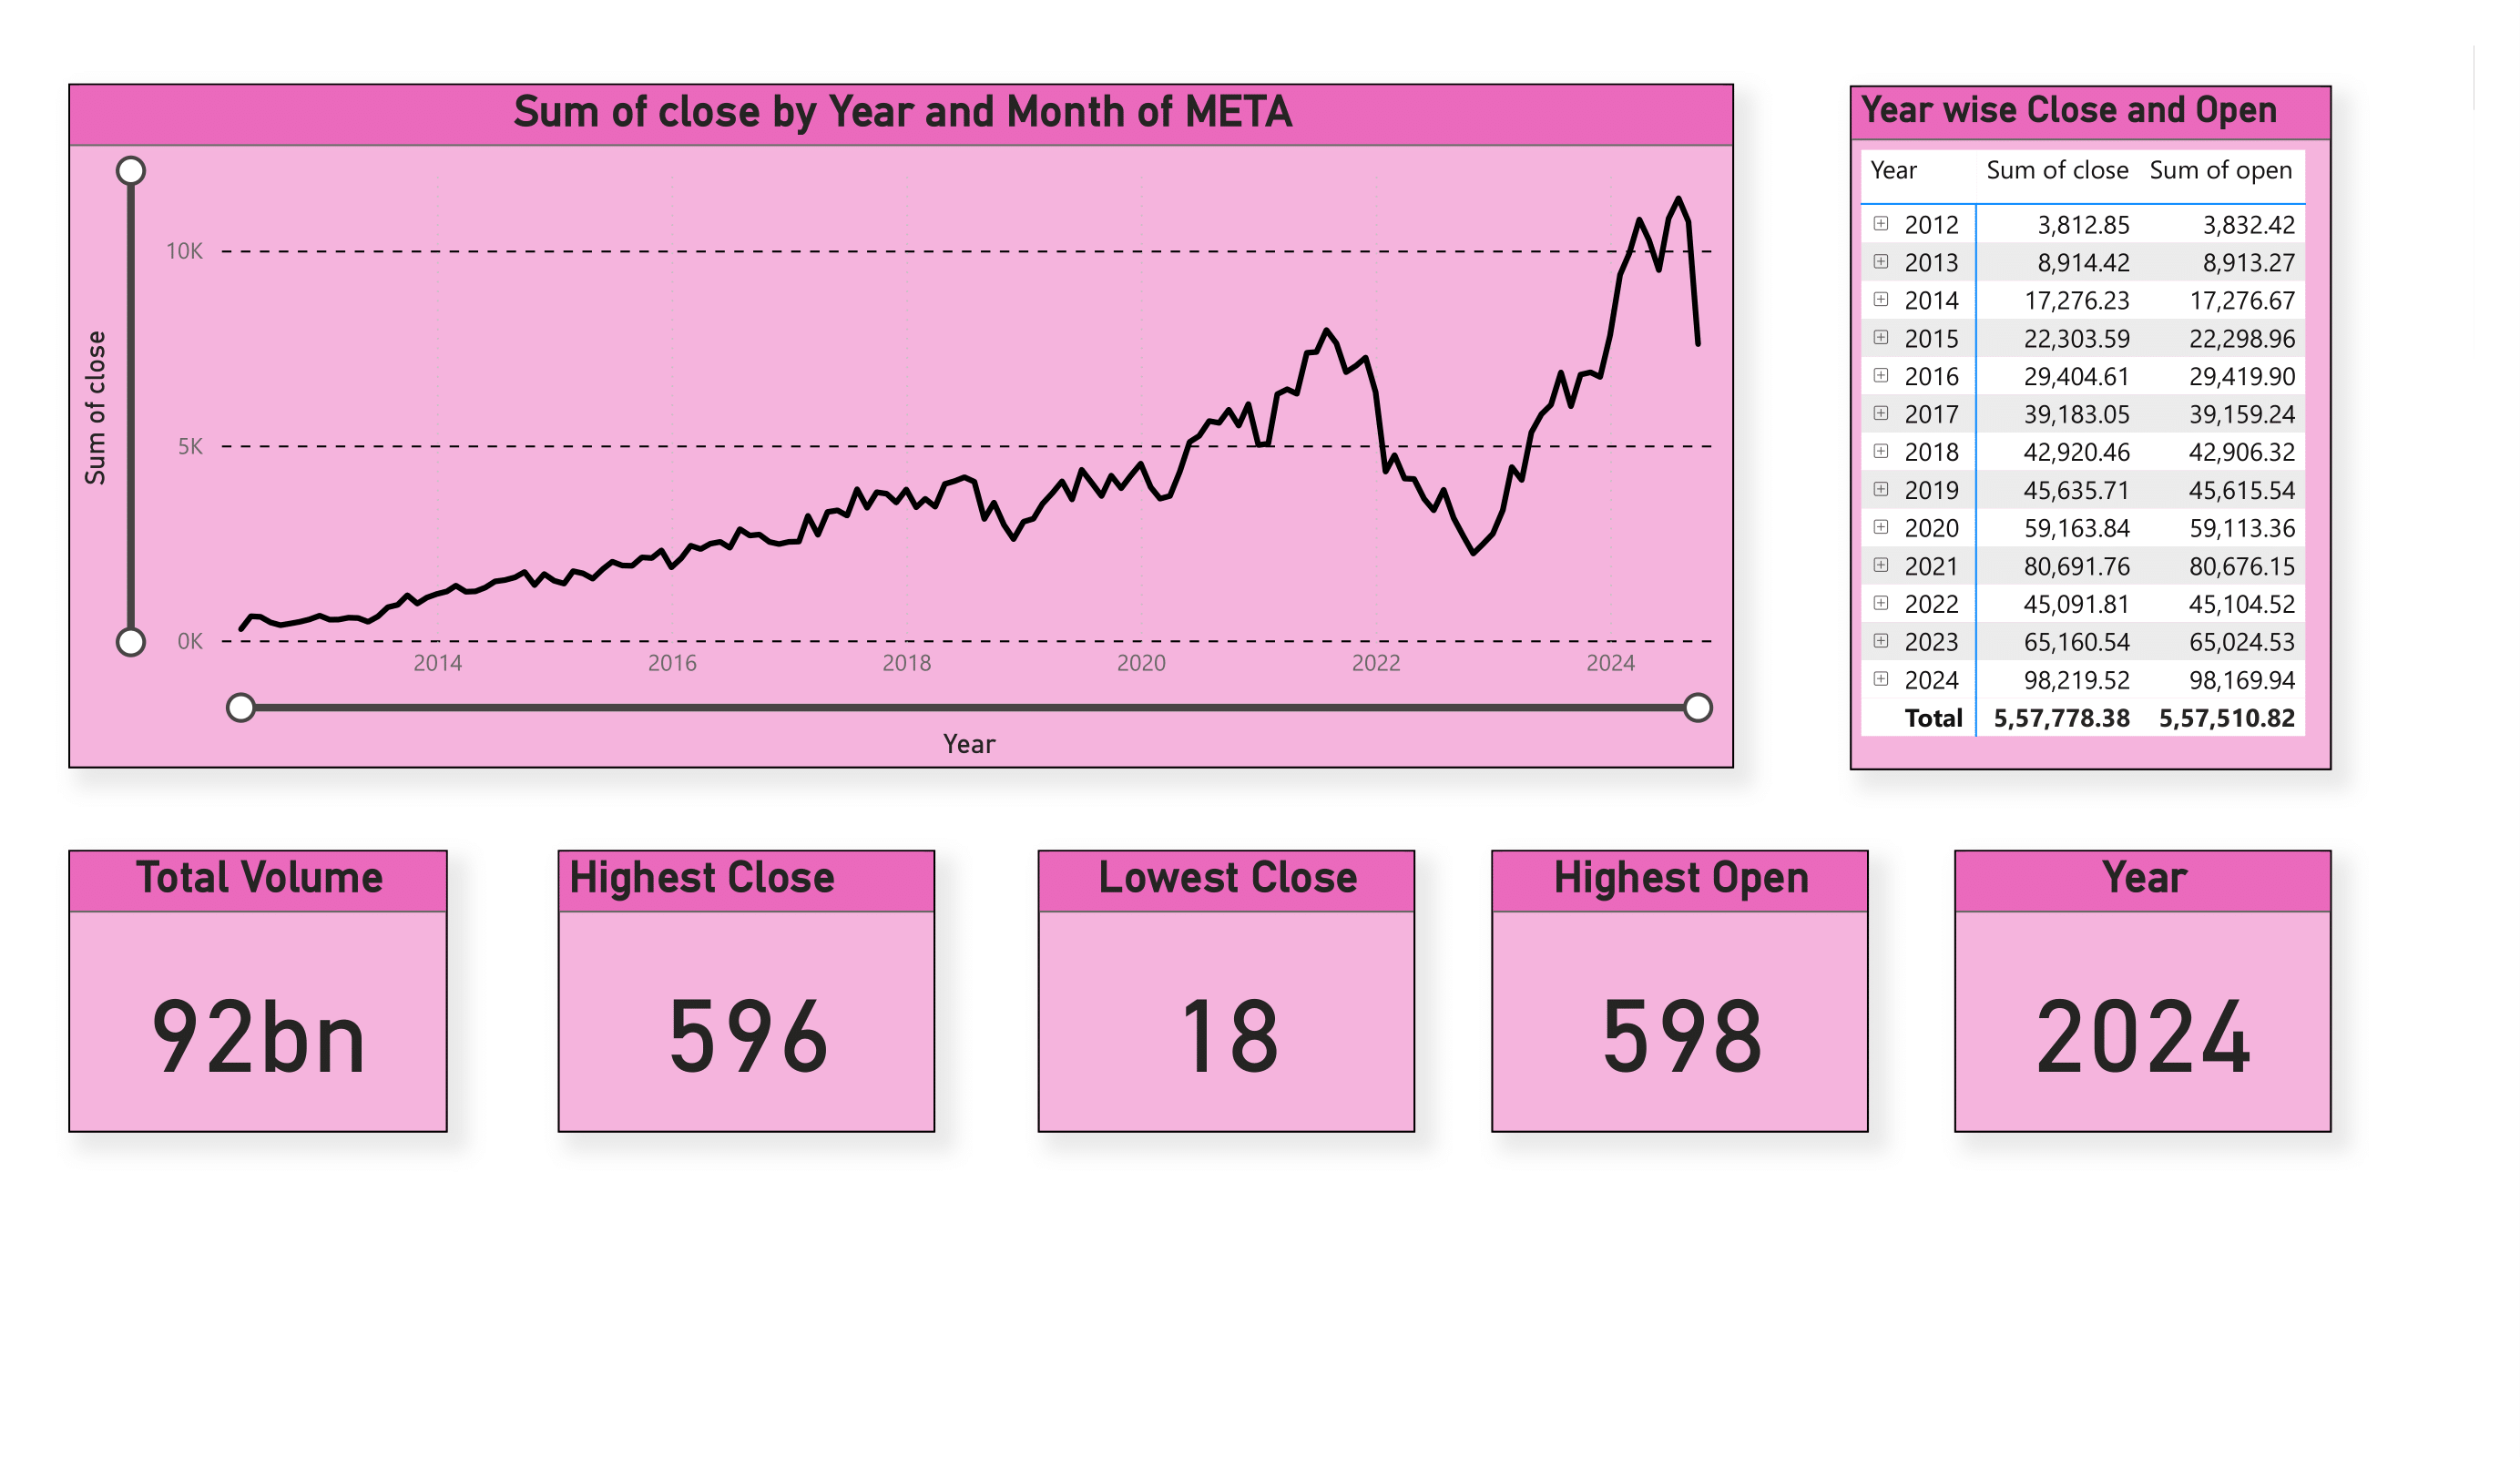

This screenshot's page, from the dashboard's own definition file:
{"tool":"powerbi","page":{"name":"META","canvas":[1280,720],"ordinal":3},"visuals":[{"type":"lineChart","title":"Sum of close by Year and Month of META","fields":{"Category":["Preprocessed_META_Dataset.date.Variation.Date Hierarchy.Year","Preprocessed_META_Dataset.date.Variation.Date Hierarchy.Month"],"Y":["Sum(Preprocessed_META_Dataset.close)"]},"box":[12.2,19.8,877.6,361.1],"z":0},{"type":"pivotTable","title":"Year wise Close and Open","fields":{"Rows":["Preprocessed_META_Dataset.date.Variation.Date Hierarchy.Year","Preprocessed_META_Dataset.date.Variation.Date Hierarchy.Month"],"Values":["Sum(Preprocessed_META_Dataset.close)","Sum(Preprocessed_META_Dataset.open)"]},"box":[950.7,21.3,254.4,361.1],"z":1000},{"type":"card","title":"Total Volume","fields":{"Values":["Preprocessed_META_Dataset.Measure 10"]},"box":[12.2,423.6,199.6,149.3],"z":2000},{"type":"card","title":"Highest Close","fields":{"Values":["Preprocessed_META_Dataset.Measure 7"]},"box":[269.7,423.6,199.6,149.3],"z":3000},{"type":"card","title":"Lowest Close","fields":{"Values":["Preprocessed_META_Dataset.Measure 8"]},"box":[522.6,423.6,199.6,149.3],"z":4000},{"type":"card","title":"Highest Open","fields":{"Values":["Preprocessed_META_Dataset.Measure 9"]},"box":[761.8,423.6,199.6,149.3],"z":5000},{"type":"card","title":"Year","fields":{"Values":["Max(Preprocessed_META_Dataset.date.Variation.Date Hierarchy.Year)"]},"box":[1005.6,423.6,199.6,149.3],"z":6000}]}

Visuals, with their boxes on the page's 1280x720 design canvas (x1, y1, x2, y2). These are canvas units, not pixel positions in the 2520x1457 screenshot, which may show the page scaled, cropped or inside an application window:
"Sum of close by Year and Month of META" lineChart: [x1=12, y1=20, x2=890, y2=381]
"Year wise Close and Open" pivotTable: [x1=951, y1=21, x2=1205, y2=382]
"Total Volume" card: [x1=12, y1=424, x2=212, y2=573]
"Highest Close" card: [x1=270, y1=424, x2=469, y2=573]
"Lowest Close" card: [x1=523, y1=424, x2=722, y2=573]
"Highest Open" card: [x1=762, y1=424, x2=961, y2=573]
"Year" card: [x1=1006, y1=424, x2=1205, y2=573]
